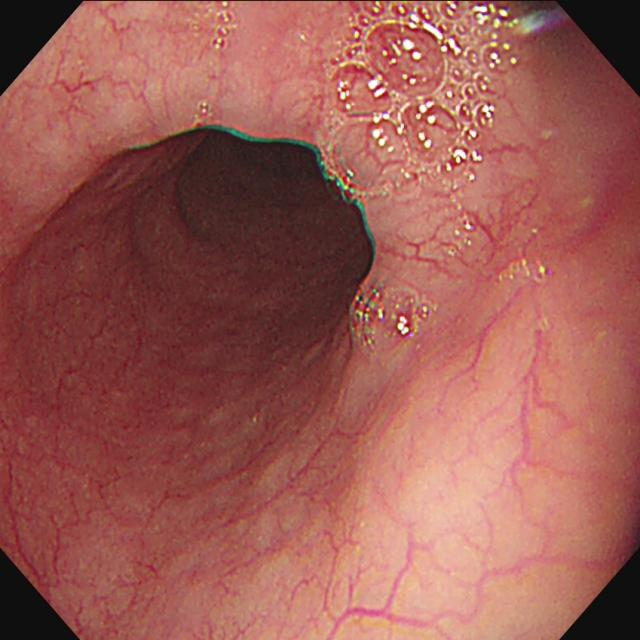T: (326, 2, 520, 199), (351, 288, 433, 346), (212, 2, 236, 52)
